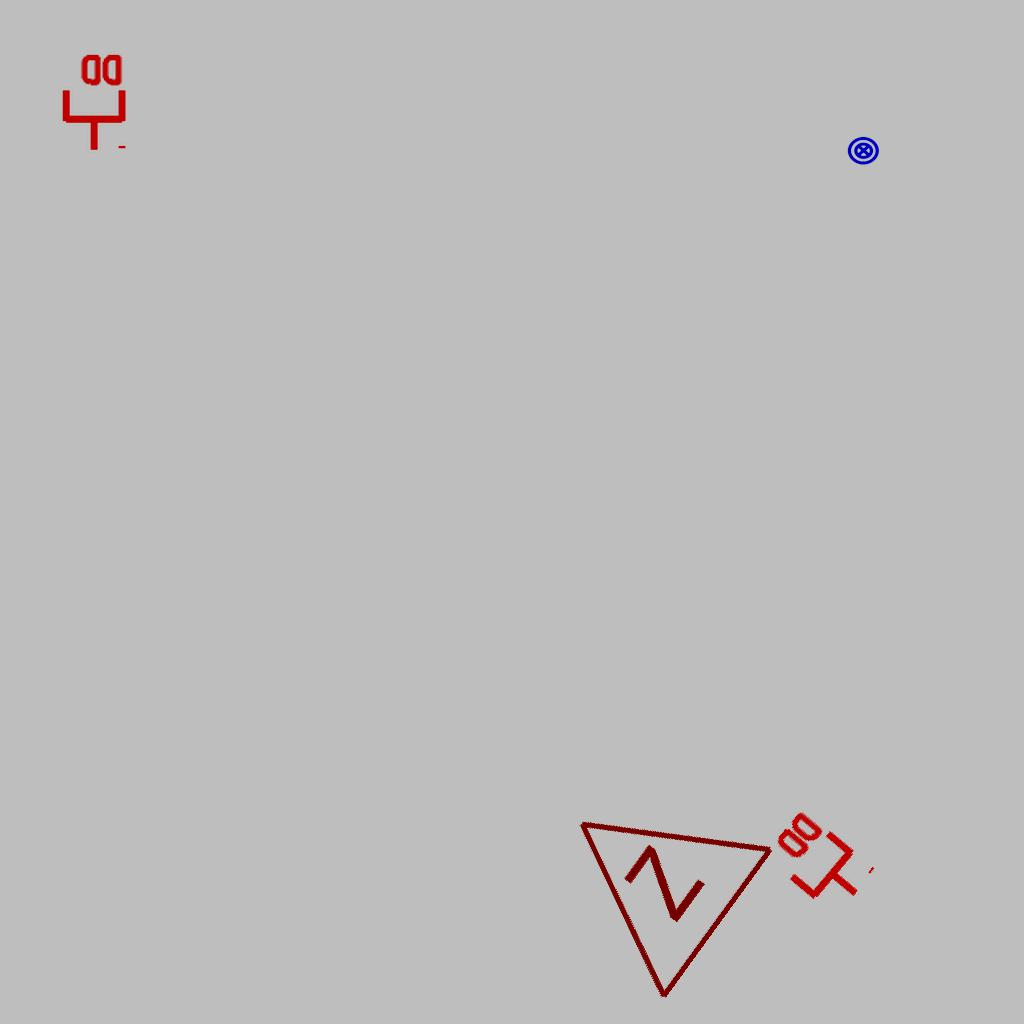Datenanschluss_zweifach: (755, 803, 880, 924), (58, 50, 127, 153)
Taster_beleuchtet: (847, 134, 880, 167)
Zimmersignalleuchte: (510, 737, 788, 1015)
